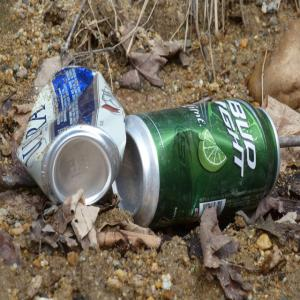Can: (113, 97, 284, 227), (18, 67, 129, 206)
